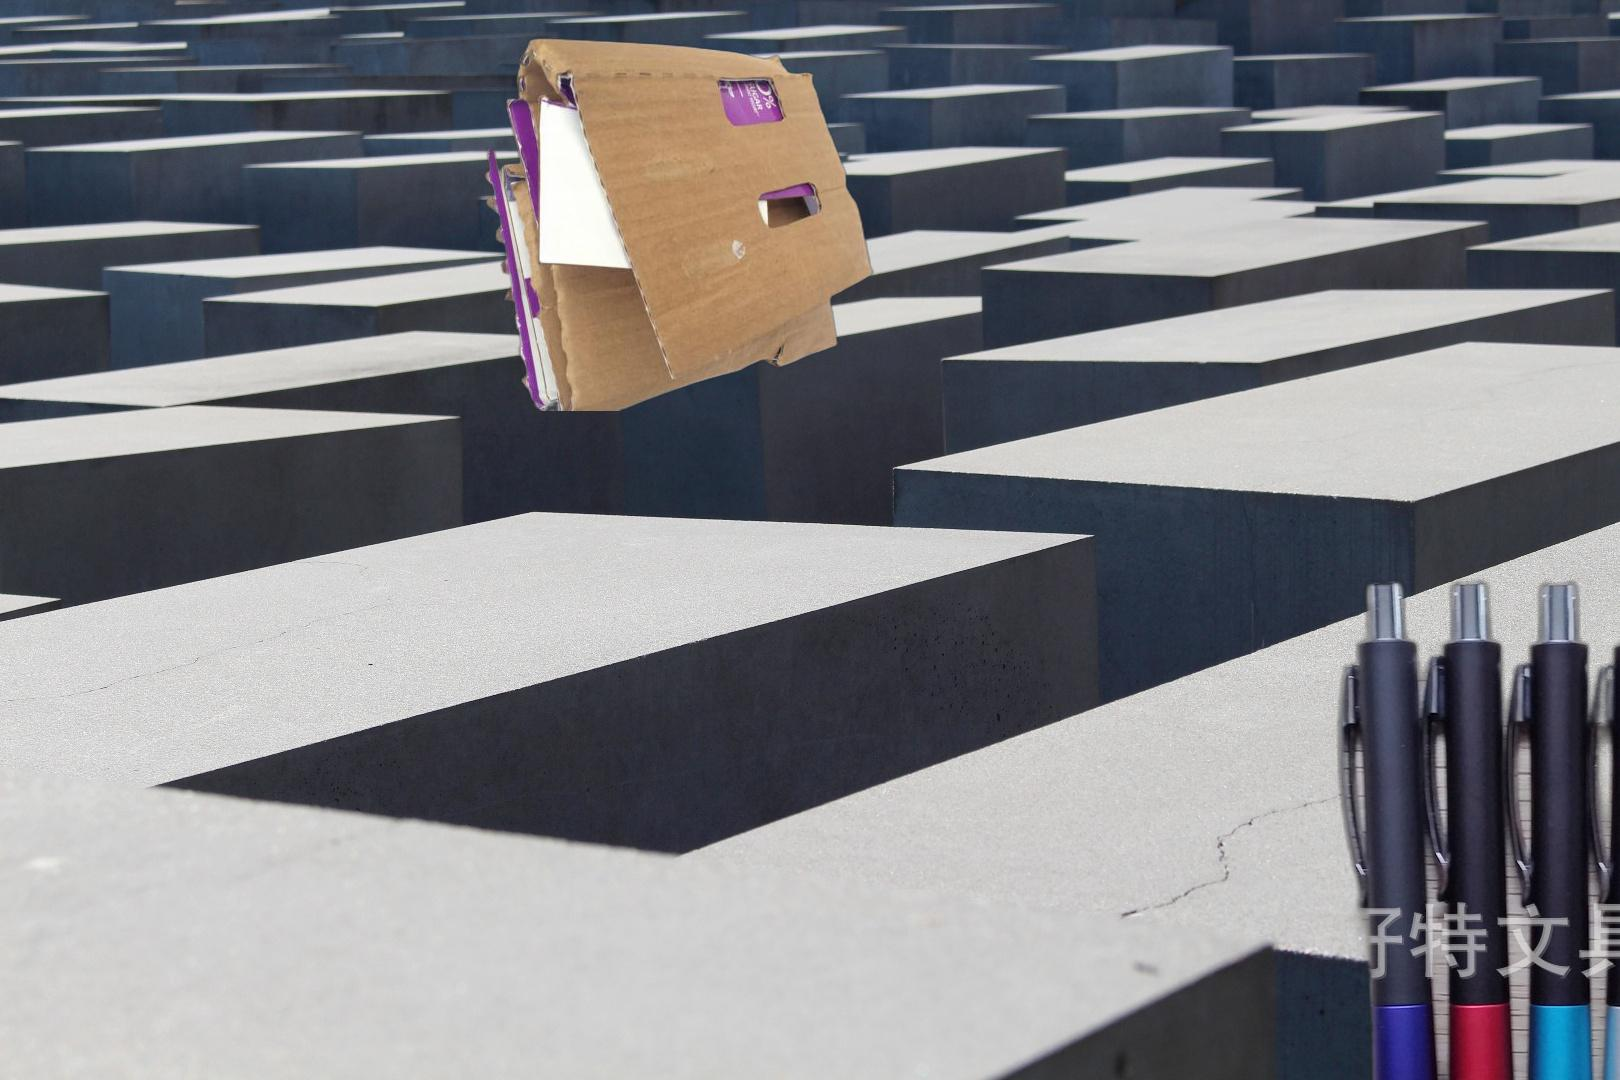penholder: (1330, 573, 1620, 1080)
trashbox-cardboard: (481, 35, 877, 411)
